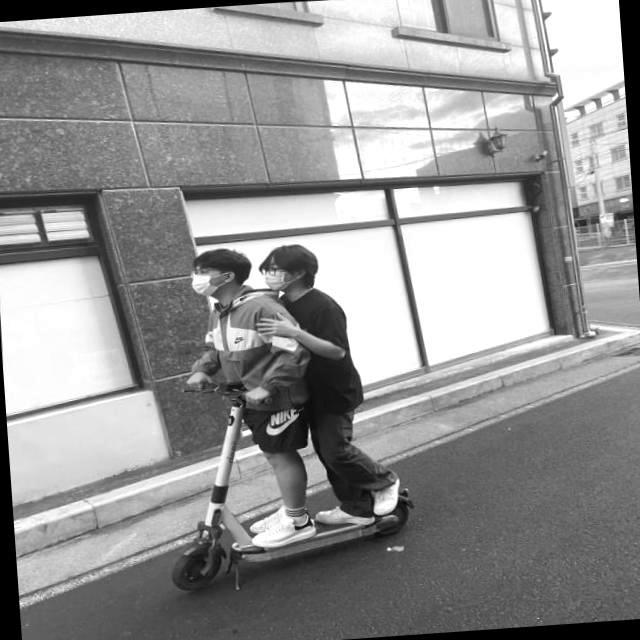bare_head: (184, 248, 250, 299), (259, 245, 322, 295)
human: (255, 235, 405, 524), (173, 242, 314, 547)
kickboard: (161, 472, 413, 603)
